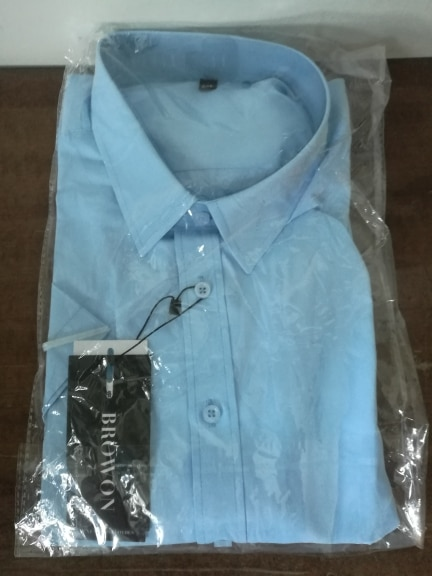shirts: (46, 32, 397, 545)
